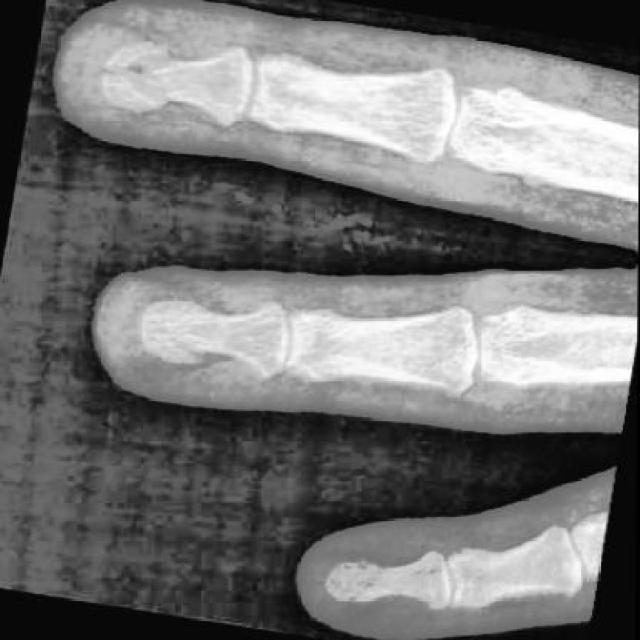Fracture: (129, 296, 224, 376), (97, 35, 184, 120)
